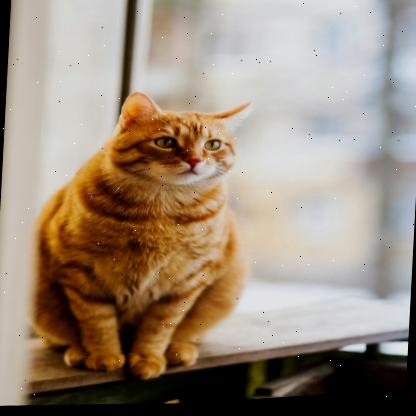cat: (18, 75, 268, 396)
